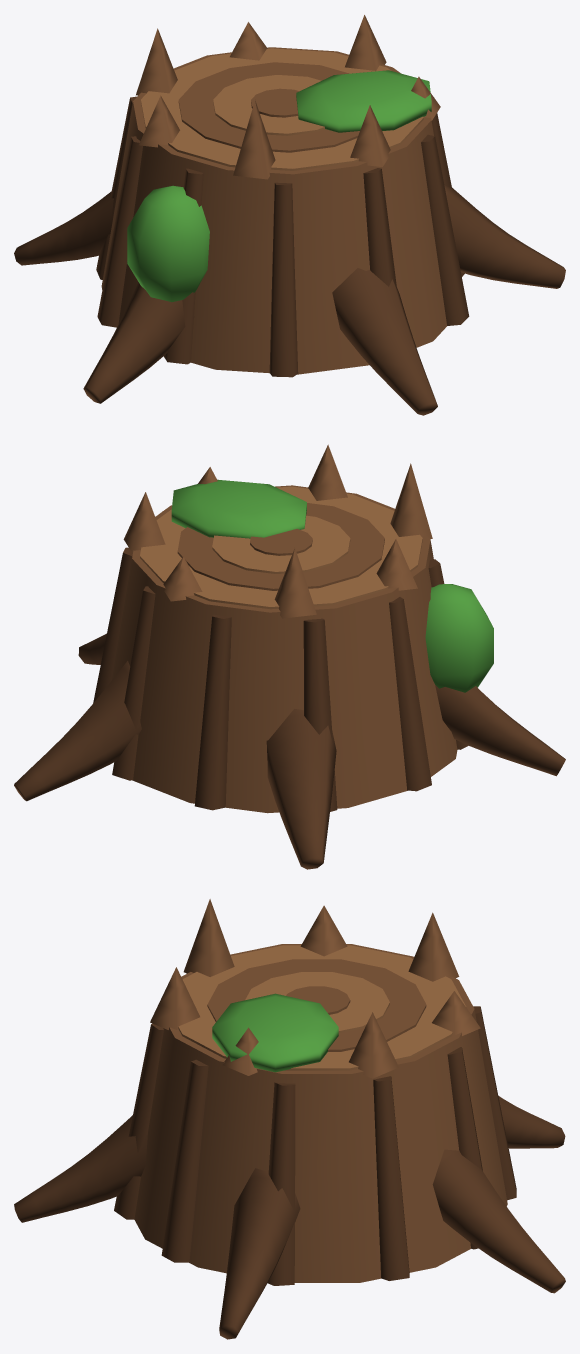
The model's file is Stump.glb.
The picture shows the model from 3 angles, top to bottom: view 1: azimuth 30°, elevation 25°; view 2: azimuth 150°, elevation 25°; view 3: azimuth 270°, elevation 25°; orthographic projection. The views are drawn at different scales.
Parts seen in each view (by area): view 1: Body; view 2: Body; view 3: Body.
Boxes of the visible parts, <box> form: Body: <box>14,15,565,415</box>; Body: <box>14,444,565,869</box>; Body: <box>14,899,565,1339</box>.
Bounding box in the file's own units: 3.5 × 1.88 × 3.33.
1 material, 1 textured.
